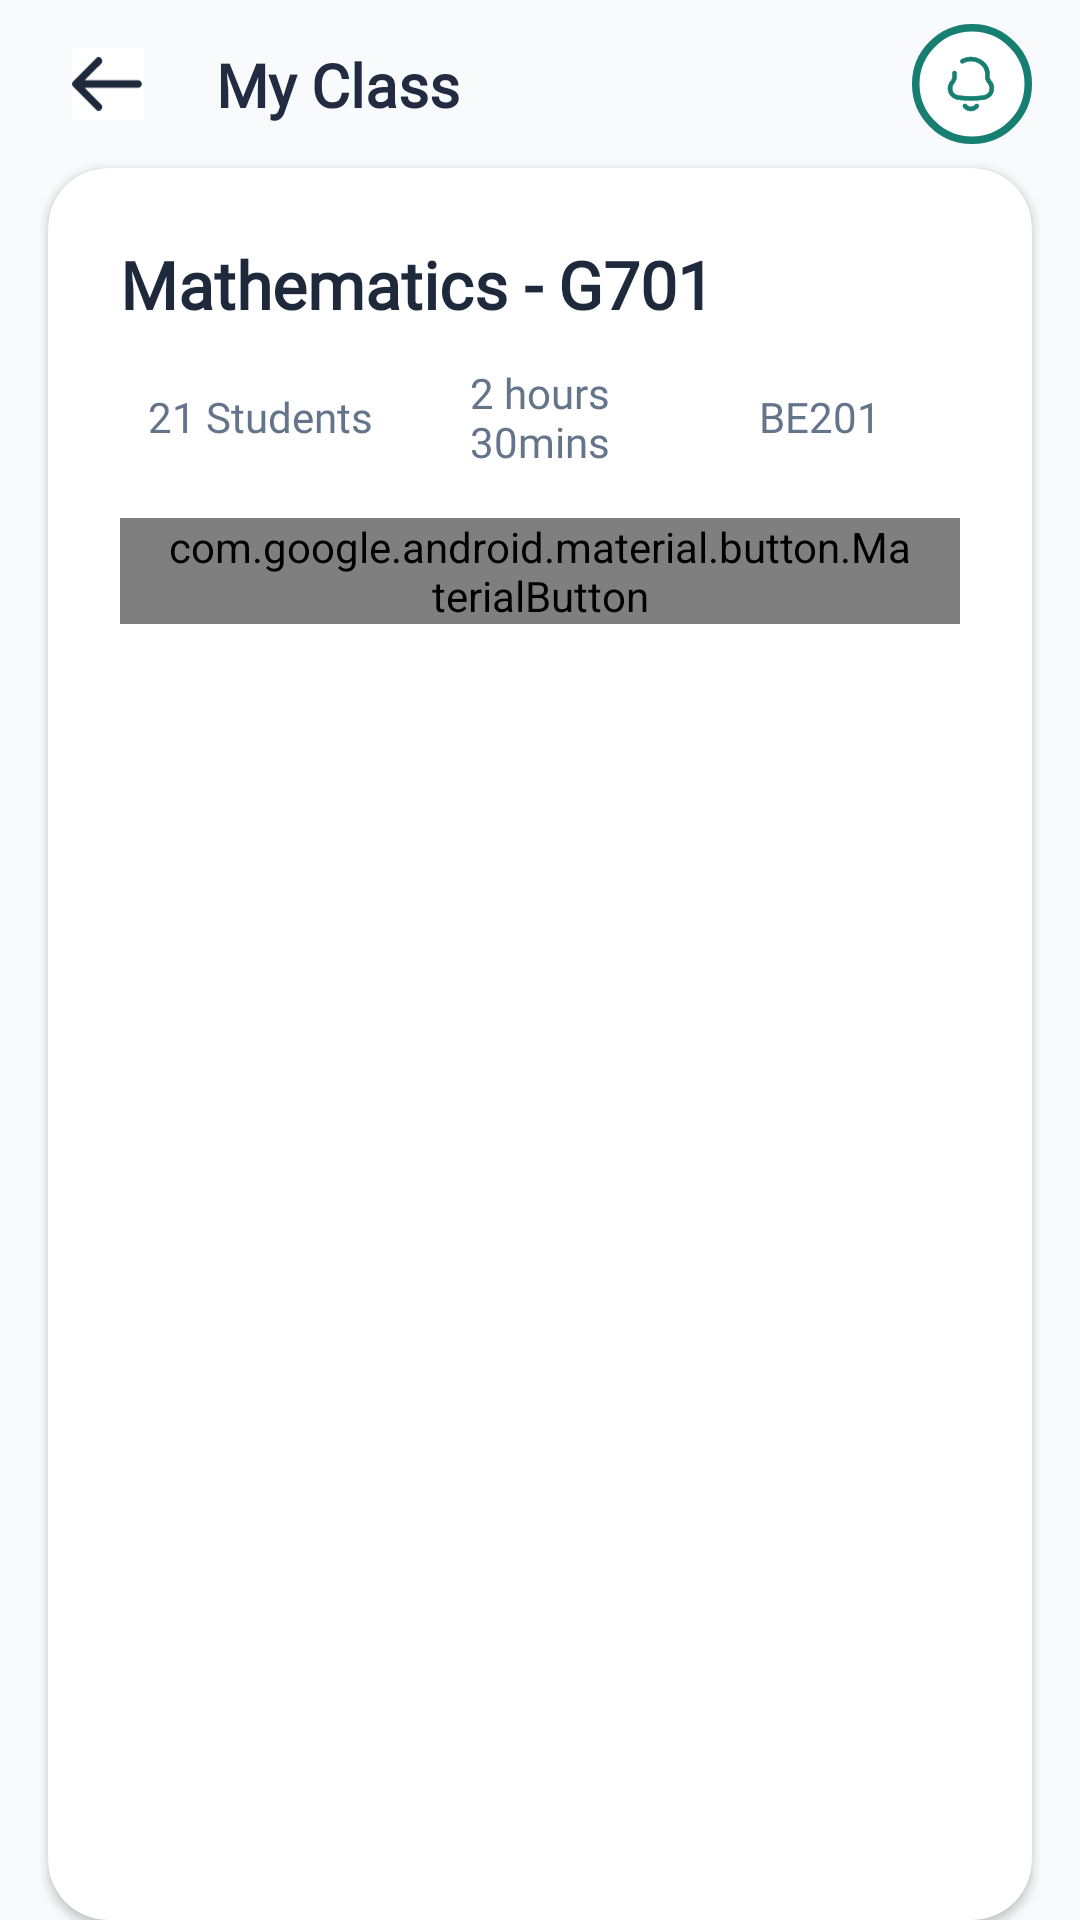

Locate icon controls on the screen. Image size 1080 × 1920, boxes as (x1, y1, x2, y2).
Back: (72, 57, 142, 111)
Notifications: (912, 24, 1032, 144)
